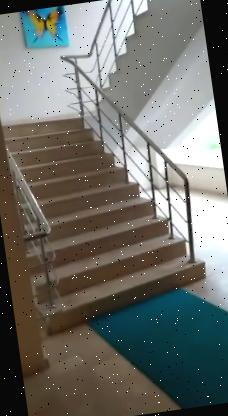stair: (0, 96, 200, 332)
